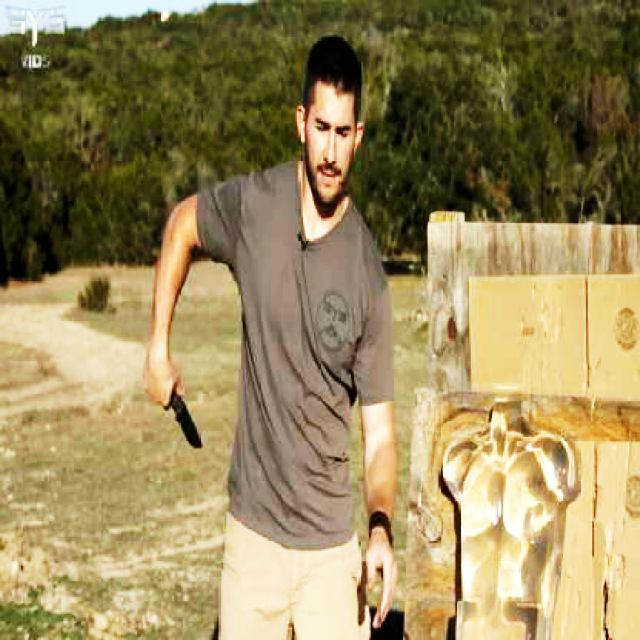Knife: (164, 391, 208, 468)
